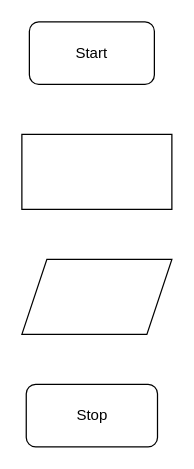
This 194x469 diagram has some shape labels left out. The centre of each missing label's shape, as x and y in pixels:
Ausgabe: (x=96, y=296)
firstname = "otto": (x=96, y=171)
